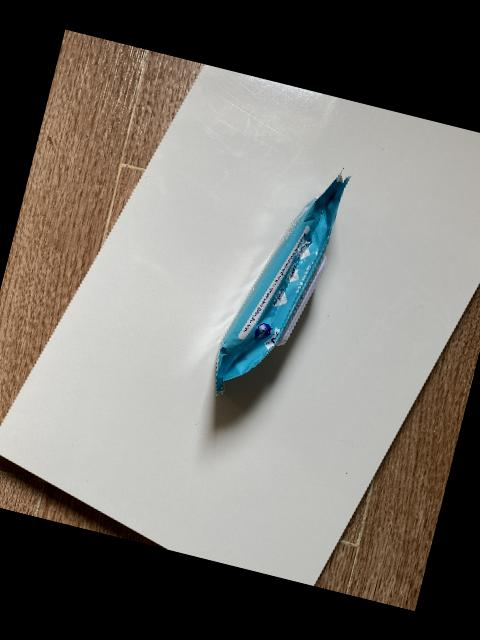Let-green_alcohol_wipes: (214, 168, 350, 396)
